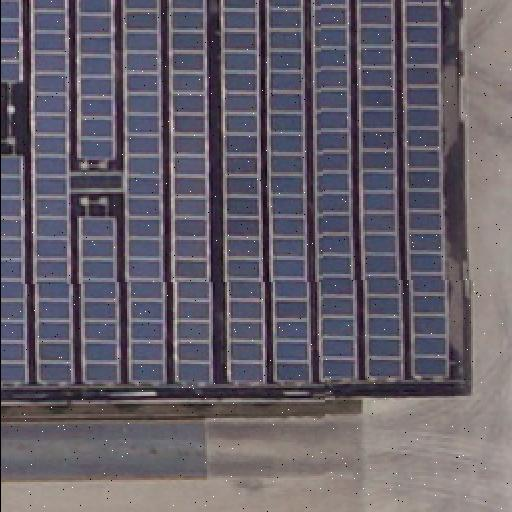solar-panel: (0, 2, 449, 393)
